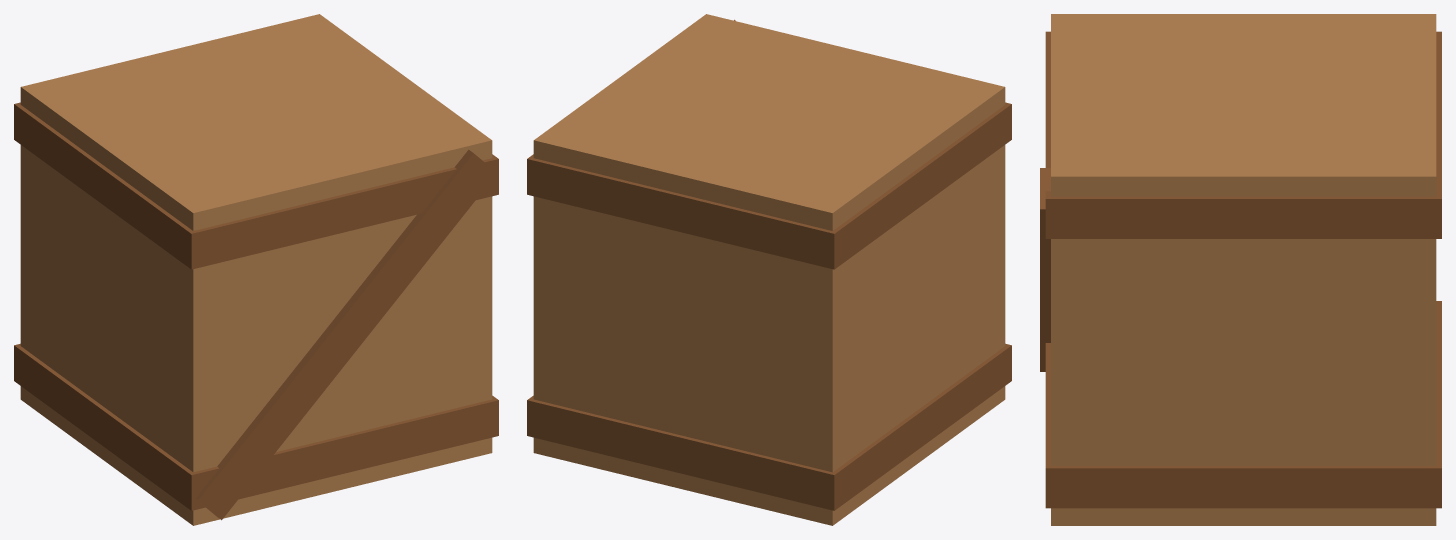
The model's file is prop_peti.glb.
The picture shows the model from 3 angles, left to right: view 1: azimuth 30°, elevation 25°; view 2: azimuth 150°, elevation 25°; view 3: azimuth 270°, elevation 25°; orthographic projection. The views are drawn at different scales.
Parts seen in each view (by area): view 1: peti; view 2: peti; view 3: peti.
Boxes of the visible parts, x1,y1,x2,y2 form: peti: [14, 14, 498, 525]; peti: [527, 14, 1011, 525]; peti: [1040, 14, 1441, 525].
Bounding box in the file's own units: 0.72 × 0.7 × 0.73.
